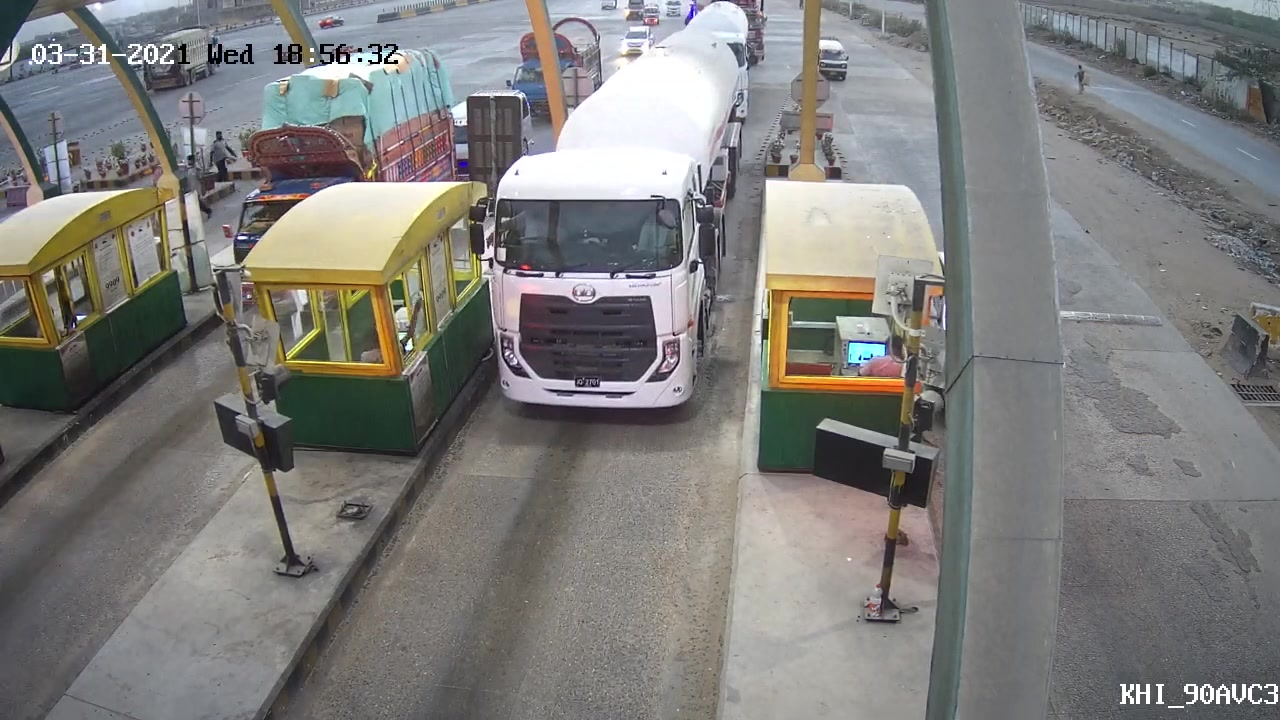F6: (475, 28, 760, 423)
